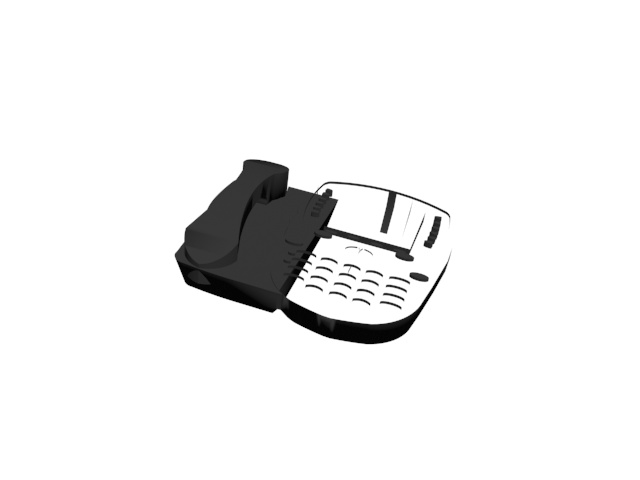phone: (169, 153, 456, 352)
